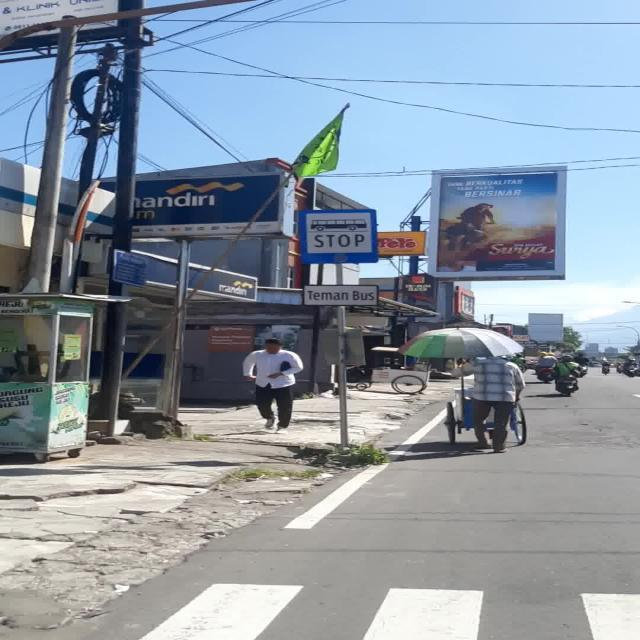Pemberhentian Bus: (298, 209, 378, 264)
